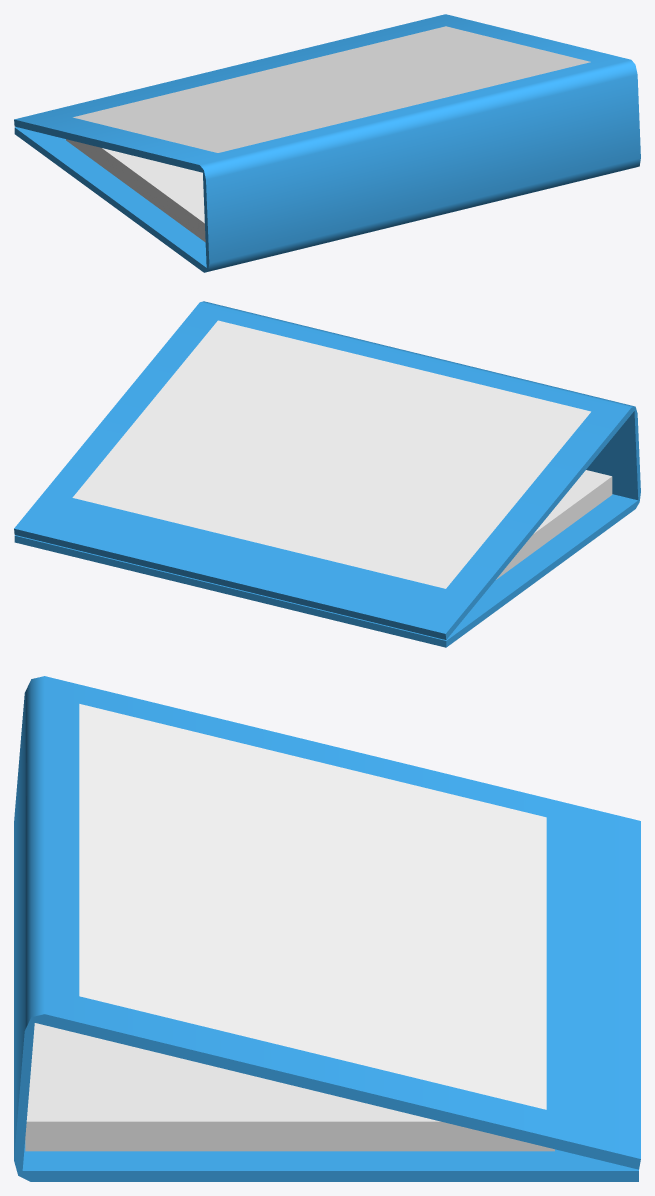
File: Binders.fbx
3 renders of one model, top to bottom at view 1: azimuth 30°, elevation 25°; view 2: azimuth 150°, elevation 25°; view 3: azimuth 270°, elevation 25°, orthographic. The views are drawn at different scales.
Visible parts, largest first — view 1: Binder A; view 2: Binder A; view 3: Binder A.
Boxes of the visible parts, x1,y1,x2,y2 form: Binder A: [14, 14, 640, 272]; Binder A: [14, 301, 640, 647]; Binder A: [14, 676, 640, 1181].
Size of the model in its own units: 267 by 61.73 by 209.
